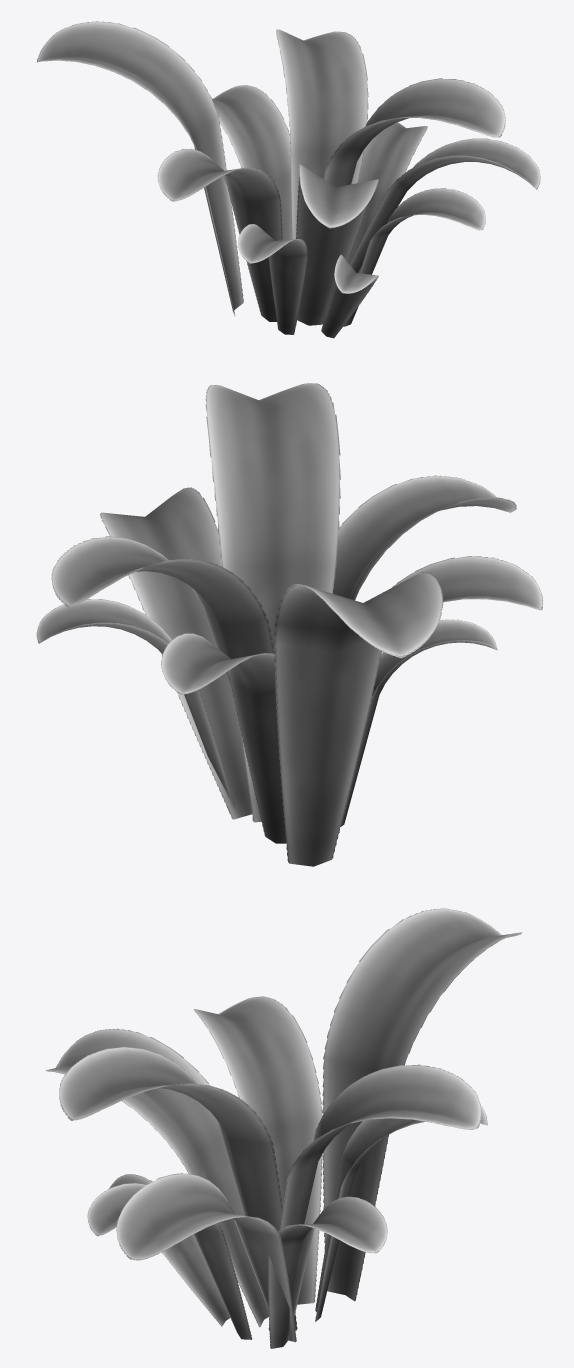
The model's file is TongueBush.fbx.
The picture shows the model from 3 angles, top to bottom: view 1: azimuth 30°, elevation 25°; view 2: azimuth 150°, elevation 25°; view 3: azimuth 270°, elevation 25°; orthographic projection. The views are drawn at different scales.
Visible parts, largest first — view 1: Arbusto2; view 2: Arbusto2; view 3: Arbusto2.
Part boxes in pixels (left/top/right/bottom): Arbusto2: left=36, top=21, right=540, bottom=338; Arbusto2: left=36, top=383, right=542, bottom=866; Arbusto2: left=45, top=908, right=521, bottom=1348.
Size of the model in its own units: 92.7 by 57.22 by 86.99.
1 material, 1 textured.
